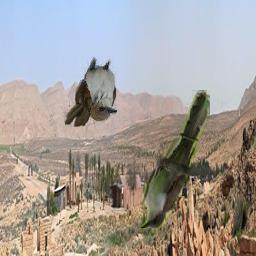Cuckoo: (138, 90, 210, 232), (65, 57, 118, 128)
